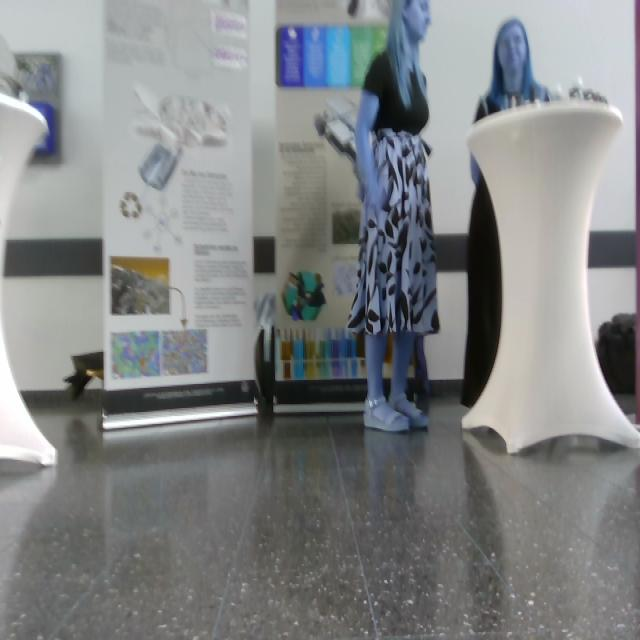light bulb: (460, 94, 640, 456), (1, 89, 59, 473)
person: (348, 1, 441, 433), (468, 19, 558, 191)
tiled floor: (2, 384, 639, 638)
